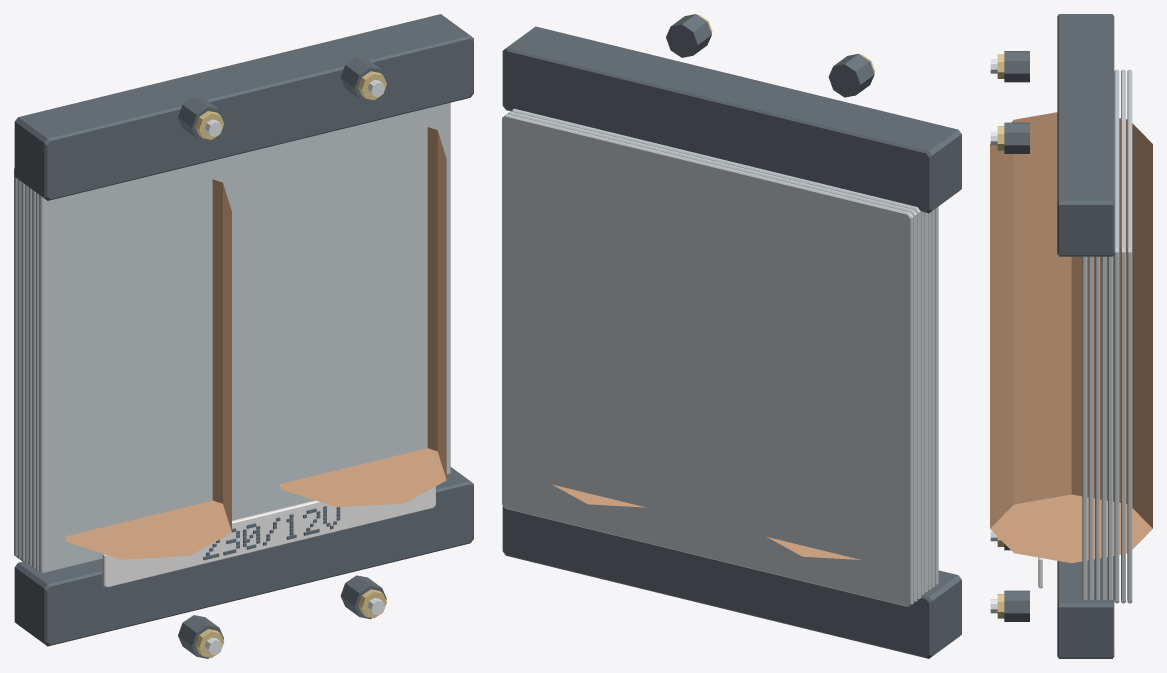
The model's file is bellTransformer.glb.
3 renders of one model, left to right at view 1: azimuth 30°, elevation 25°; view 2: azimuth 150°, elevation 25°; view 3: azimuth 270°, elevation 25°, orthographic. The views are drawn at different scales.
Parts seen in each view (by area): view 1: bellTransformer-board; view 2: bellTransformer-board; view 3: bellTransformer-board.
Part boxes in pixels (x1,y1,x2,y2): bellTransformer-board: (14,14,473,658); bellTransformer-board: (502,14,961,658); bellTransformer-board: (990,14,1152,658).
Bounding box in the file's own units: 2.57 × 3.15 × 0.9333.
